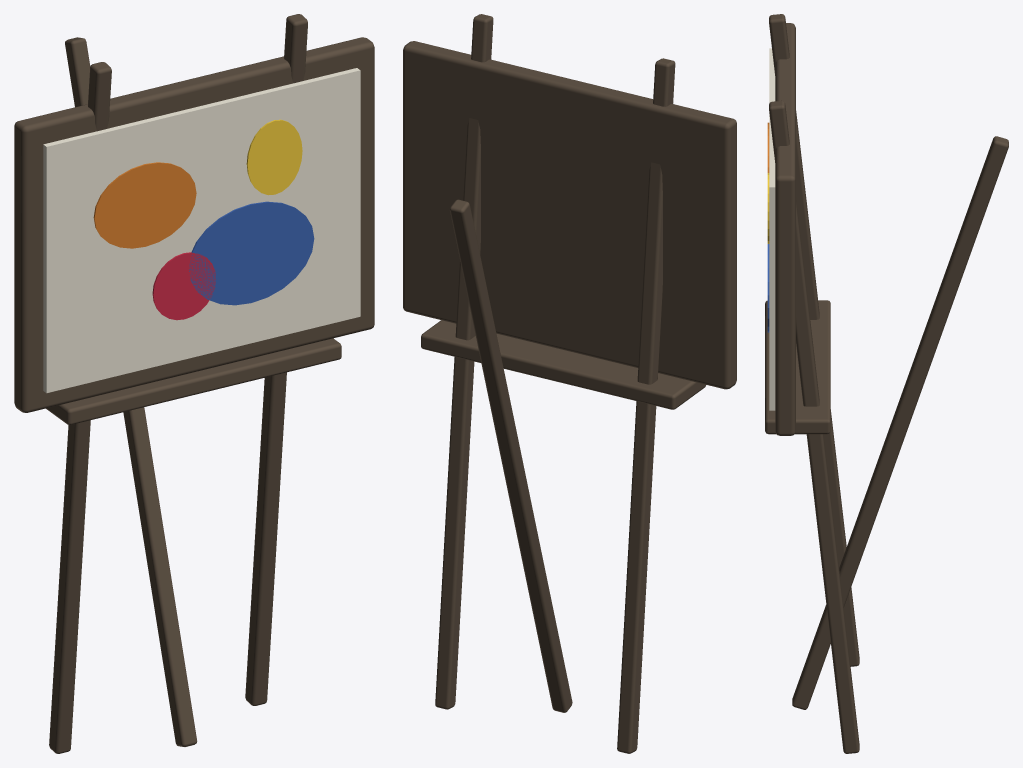
File: painting.glb
The picture shows the model from 3 angles, left to right: view 1: azimuth 30°, elevation 25°; view 2: azimuth 150°, elevation 25°; view 3: azimuth 270°, elevation 25°; orthographic projection. The views are drawn at different scales.
Parts seen in each view (by area): view 1: Cube.005, Cube.004, Cylinder.001, Cube.002, Cube.001, Cube, Cylinder, Cube.003, Cylinder.002, Cylinder.003; view 2: Cube.004, Cube, Cube.002, Cube.001, Cube.003; view 3: Cube.002, Cube.001, Cube.004, Cube, Cube.003, Cube.005.
Boxes of the visible parts, <box> form: Cube.005: <box>43,68,360,393</box>; Cube.004: <box>14,37,374,412</box>; Cylinder.001: <box>189,201,314,305</box>; Cube.002: <box>65,37,197,746</box>; Cube.001: <box>245,14,307,705</box>; Cube: <box>49,62,111,753</box>; Cylinder: <box>93,162,196,248</box>; Cube.003: <box>46,338,341,424</box>; Cylinder.002: <box>152,252,215,320</box>; Cylinder.003: <box>246,119,302,195</box>; Cube.004: <box>403,41,736,389</box>; Cube: <box>617,58,675,753</box>; Cube.002: <box>450,199,572,712</box>; Cube.001: <box>435,14,493,709</box>; Cube.003: <box>421,320,705,409</box>; Cube.002: <box>792,136,1008,709</box>; Cube.001: <box>769,100,859,753</box>; Cube.004: <box>775,23,795,435</box>; Cube: <box>769,14,859,666</box>; Cube.003: <box>765,300,830,434</box>; Cube.005: <box>769,48,775,410</box>.
Size of the model in its own units: 0.9 by 1.74 by 0.5938.
